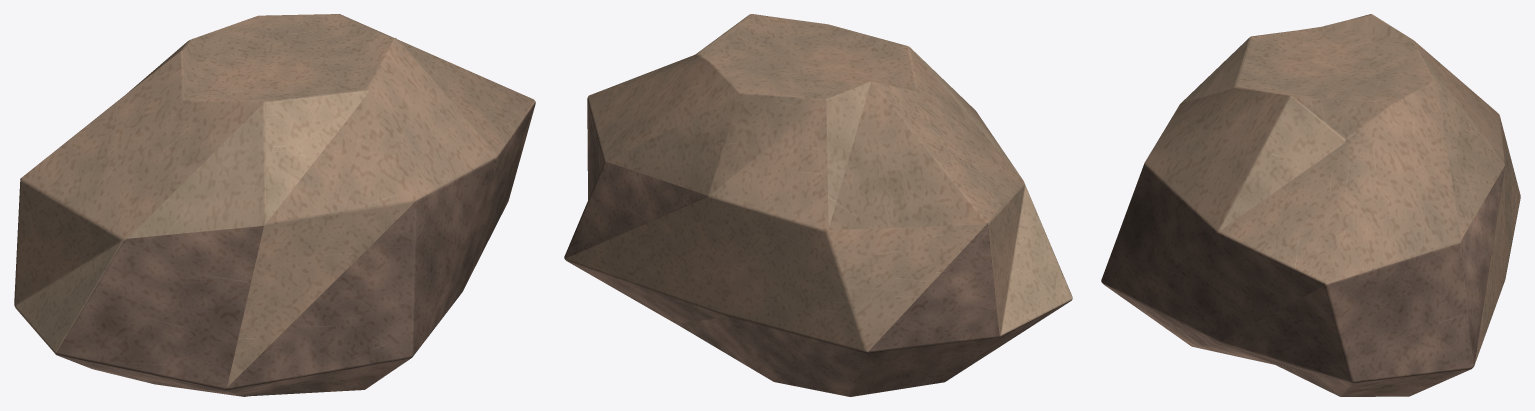
The model's file is PitLipRubble_02.glb.
3 renders of one model, left to right at view 1: azimuth 30°, elevation 25°; view 2: azimuth 150°, elevation 25°; view 3: azimuth 270°, elevation 25°, orthographic. The views are drawn at different scales.
Visible parts, largest first — view 1: Fractured_crust_warm_panel.001; view 2: Fractured_crust_warm_panel.001; view 3: Fractured_crust_warm_panel.001.
Part boxes in pixels (x1,y1,x2,y2): Fractured_crust_warm_panel.001: (14, 14, 535, 396); Fractured_crust_warm_panel.001: (564, 14, 1072, 396); Fractured_crust_warm_panel.001: (1101, 14, 1520, 396).
Size of the model in its own units: 0.5413 by 0.3207 by 0.3992.
Materials: 3 (3 with a texture image).
